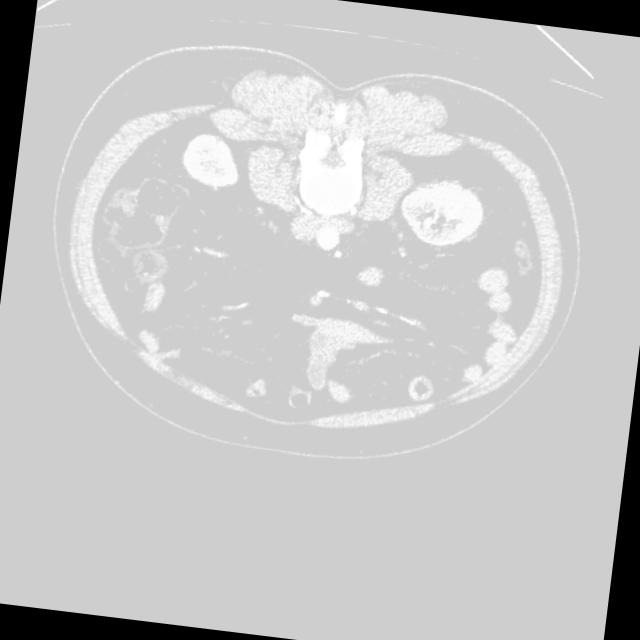TUMOR: (102, 103, 580, 420)
